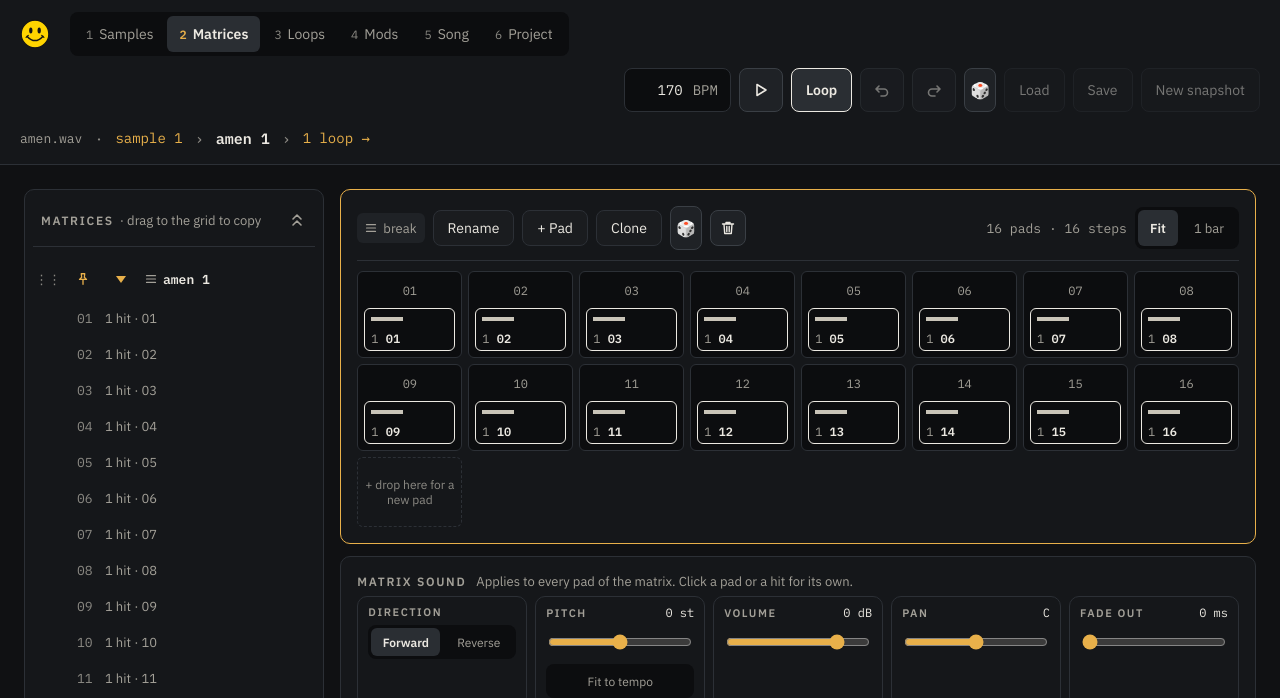
Test: stretch in the GUI › Pitch has Fit to tempo of its own: a matrix fits by pitch, and the semitones still add
Click the button "Fit to tempo" below "0 st".
click(620, 681)  # box [549,667,691,695]
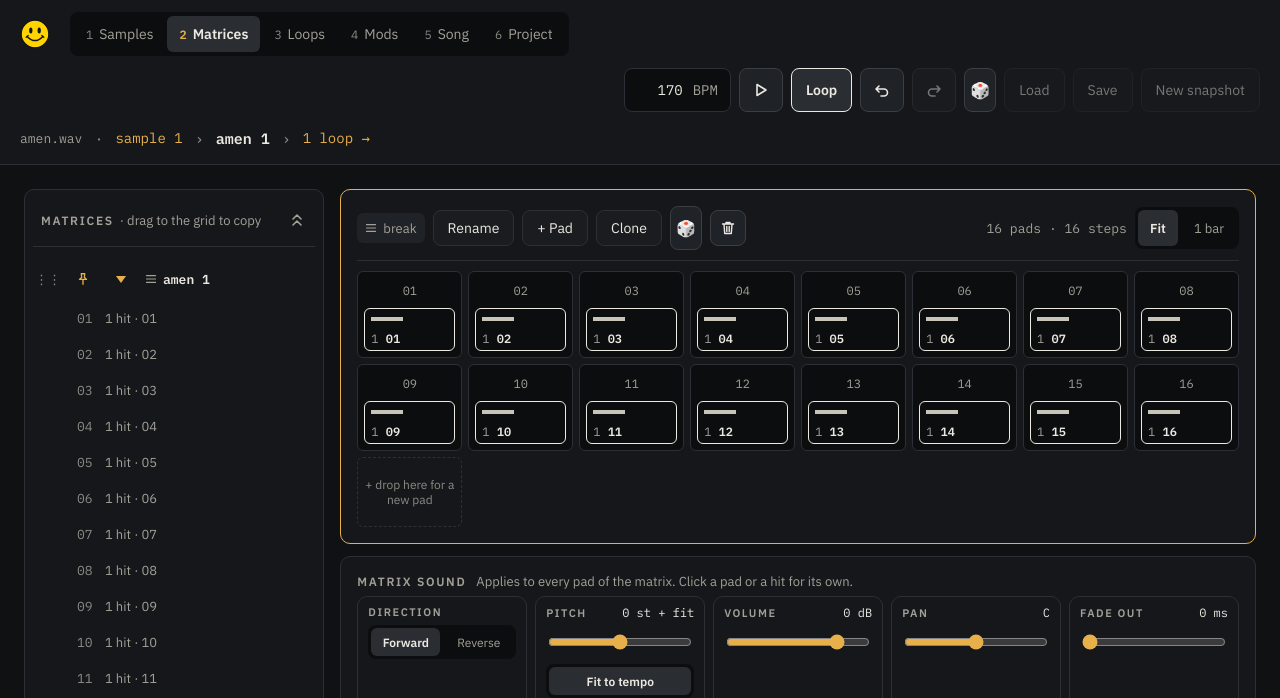
Expected: the text "0 st + fit" is shown, [622,605,694,620]
